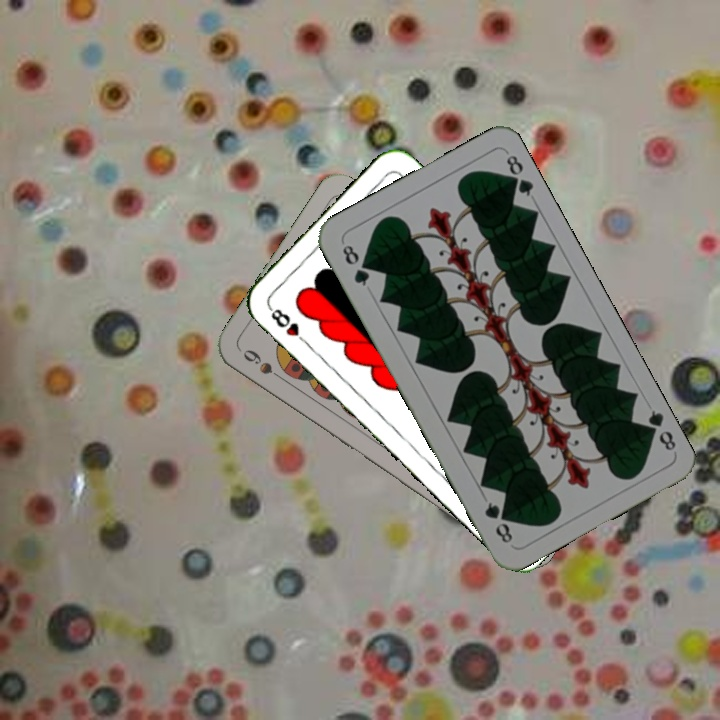G8: (639, 405, 679, 454), (338, 240, 373, 289)
H8: (264, 303, 312, 348)
S9: (239, 345, 290, 385)
